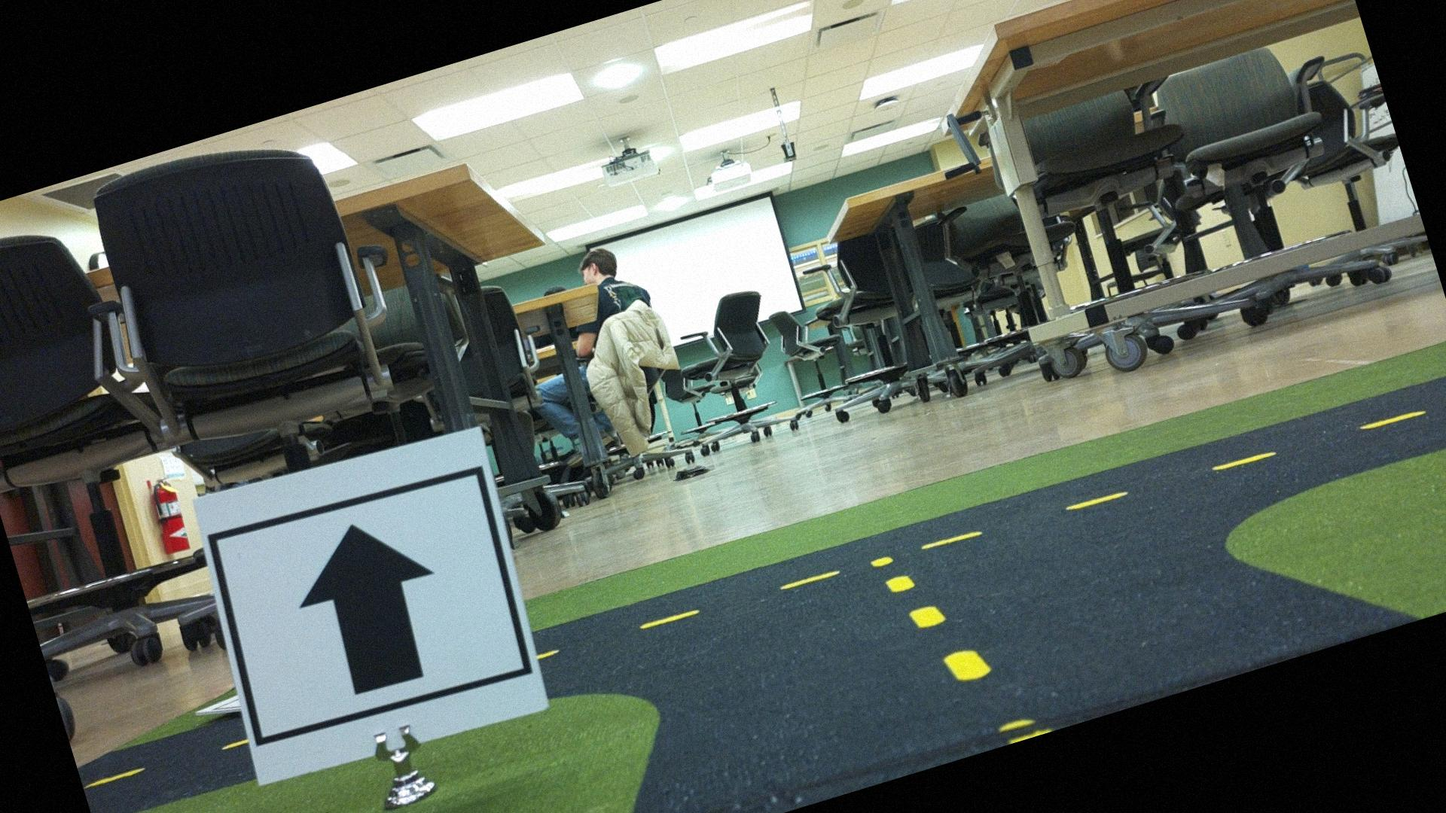gostraight: (195, 428, 547, 778)
yellowline: (540, 387, 1418, 678), (871, 528, 1039, 766)
